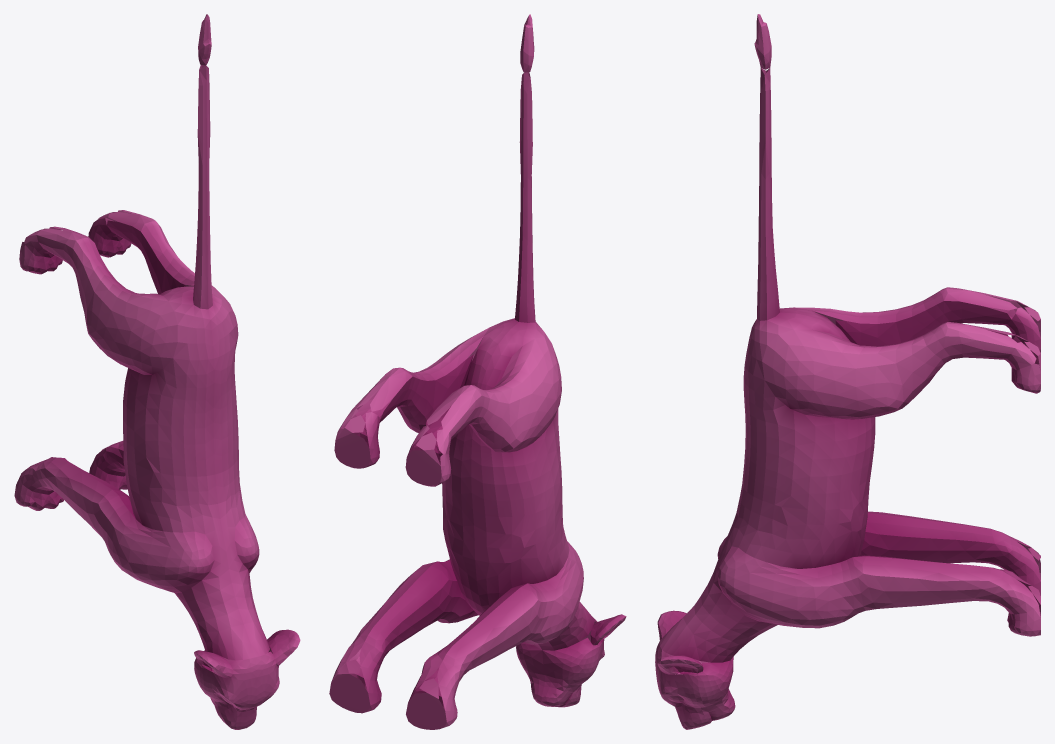
The model's file is Nala6KC.obj.
3 renders of one model, left to right at view 1: azimuth 30°, elevation 25°; view 2: azimuth 150°, elevation 25°; view 3: azimuth 270°, elevation 25°, orthographic. The views are drawn at different scales.
Bounding box in the file's own units: 59.51 × 318 × 156.
